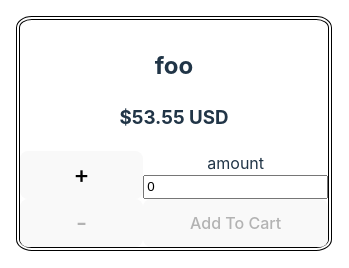
Test case: ShopItem › item count input › Increment button › adds 1 after user clicks
The width and height of the screenshot is (349, 268).
Step 1. Click the button named "add button" → [81, 175], box [20,151,143,199]
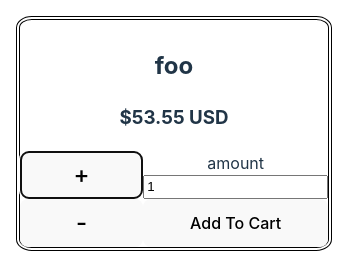
expect the number field labelled "amount" holds "1": met, box [143,175,328,199]
